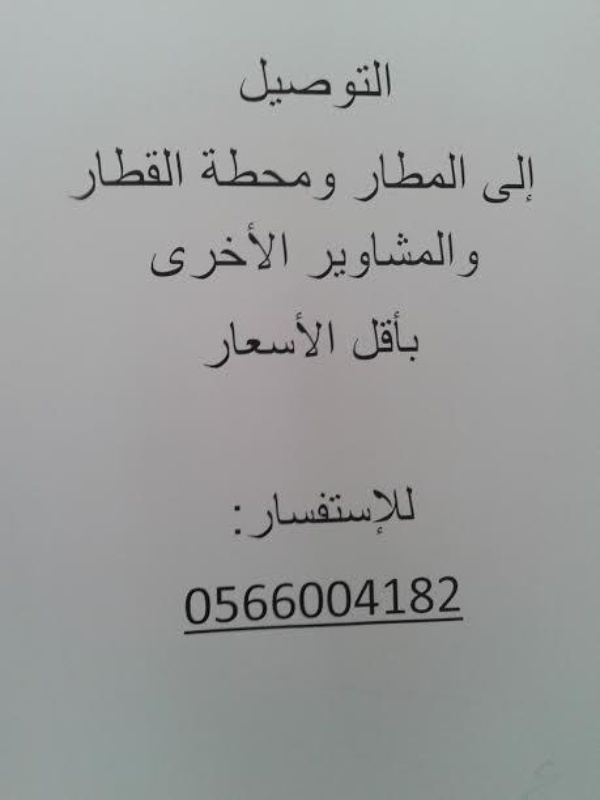text: (401, 479, 417, 543), (241, 479, 256, 543), (257, 479, 272, 543), (273, 479, 288, 543), (289, 479, 304, 543), (305, 479, 320, 543), (321, 479, 336, 543), (337, 479, 352, 543), (353, 479, 368, 543), (369, 479, 384, 543), (385, 479, 400, 543), (161, 220, 176, 282), (177, 220, 192, 282), (193, 220, 208, 282), (209, 220, 224, 282), (225, 220, 240, 282), (241, 220, 256, 282), (257, 220, 272, 282), (273, 220, 288, 282), (209, 308, 224, 369), (225, 308, 240, 369), (241, 308, 256, 369), (257, 308, 272, 369), (273, 308, 288, 369), (289, 308, 304, 369), (305, 308, 320, 369), (321, 308, 336, 369), (353, 147, 368, 207), (369, 147, 384, 207), (385, 147, 400, 207), (401, 147, 416, 207), (417, 147, 432, 207), (433, 147, 448, 207), (449, 147, 464, 207), (353, 306, 368, 365), (369, 306, 384, 365), (385, 306, 400, 365), (401, 306, 416, 365), (81, 147, 96, 204), (97, 147, 112, 204), (113, 147, 128, 204), (129, 147, 144, 204), (145, 147, 160, 204), (161, 147, 176, 204), (241, 57, 256, 113), (257, 57, 272, 113), (273, 57, 288, 113), (289, 57, 304, 113), (305, 57, 320, 113), (321, 57, 336, 113), (337, 57, 352, 113), (353, 57, 368, 113), (369, 57, 384, 113), (497, 152, 512, 207), (513, 152, 528, 207), (193, 573, 208, 628), (209, 573, 224, 628), (225, 573, 240, 628), (241, 573, 256, 628), (257, 573, 272, 628), (273, 573, 288, 628), (289, 573, 304, 628), (305, 573, 320, 628), (321, 573, 336, 628), (337, 573, 352, 628), (353, 573, 368, 628), (369, 573, 384, 628), (385, 573, 400, 628), (401, 573, 416, 628), (417, 573, 432, 628), (433, 573, 448, 628), (449, 573, 464, 628), (321, 229, 336, 283), (337, 229, 352, 283), (353, 229, 368, 283), (369, 229, 384, 283), (385, 229, 400, 283), (401, 229, 416, 283), (417, 229, 432, 283), (433, 229, 448, 283), (229, 479, 240, 543), (68, 147, 80, 204), (209, 147, 224, 191), (225, 147, 240, 191), (241, 147, 256, 191), (257, 147, 272, 191), (273, 147, 288, 191), (289, 147, 304, 191), (529, 152, 539, 207), (385, 57, 394, 113), (487, 152, 496, 207), (465, 248, 480, 280), (417, 306, 425, 365), (177, 147, 185, 204), (321, 172, 336, 202), (184, 573, 192, 628), (153, 220, 160, 282), (305, 147, 314, 191), (449, 229, 455, 283), (203, 147, 208, 191), (313, 172, 320, 202), (465, 573, 468, 628), (317, 229, 320, 283), (459, 248, 464, 280), (206, 308, 208, 369), (238, 57, 240, 113), (481, 248, 484, 280), (337, 308, 338, 369), (465, 147, 466, 207), (337, 172, 338, 202)
